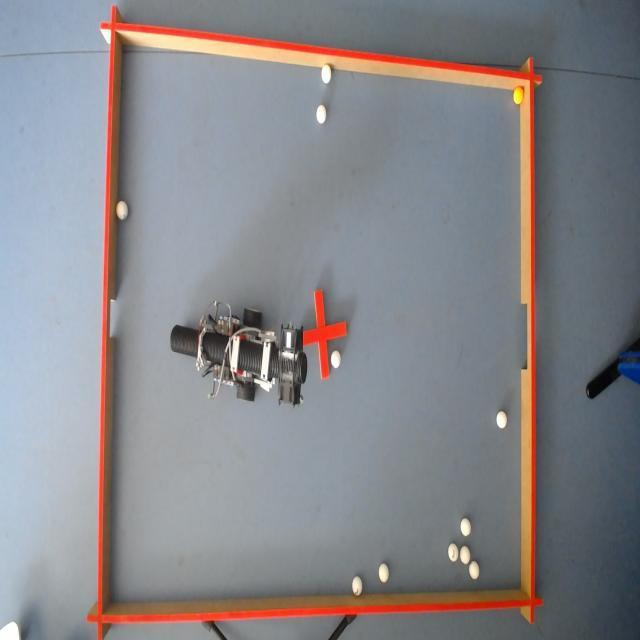orange: (514, 86, 524, 104)
robot: (168, 302, 313, 404)
white: (4, 622, 22, 640), (376, 562, 388, 586), (116, 200, 130, 220), (315, 104, 327, 126), (469, 562, 482, 582), (447, 541, 459, 562), (351, 575, 362, 596), (461, 516, 472, 536), (318, 62, 329, 82), (496, 410, 508, 428), (460, 546, 472, 564), (330, 348, 340, 368)
